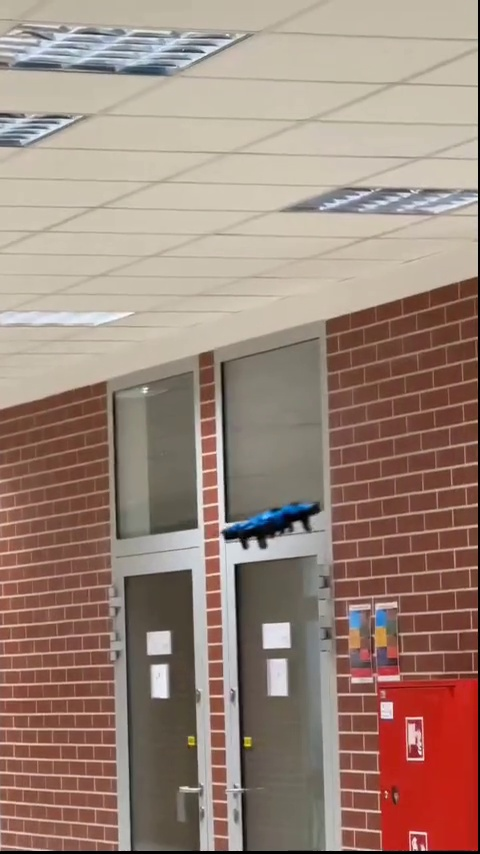drone: (226, 500, 321, 550)
